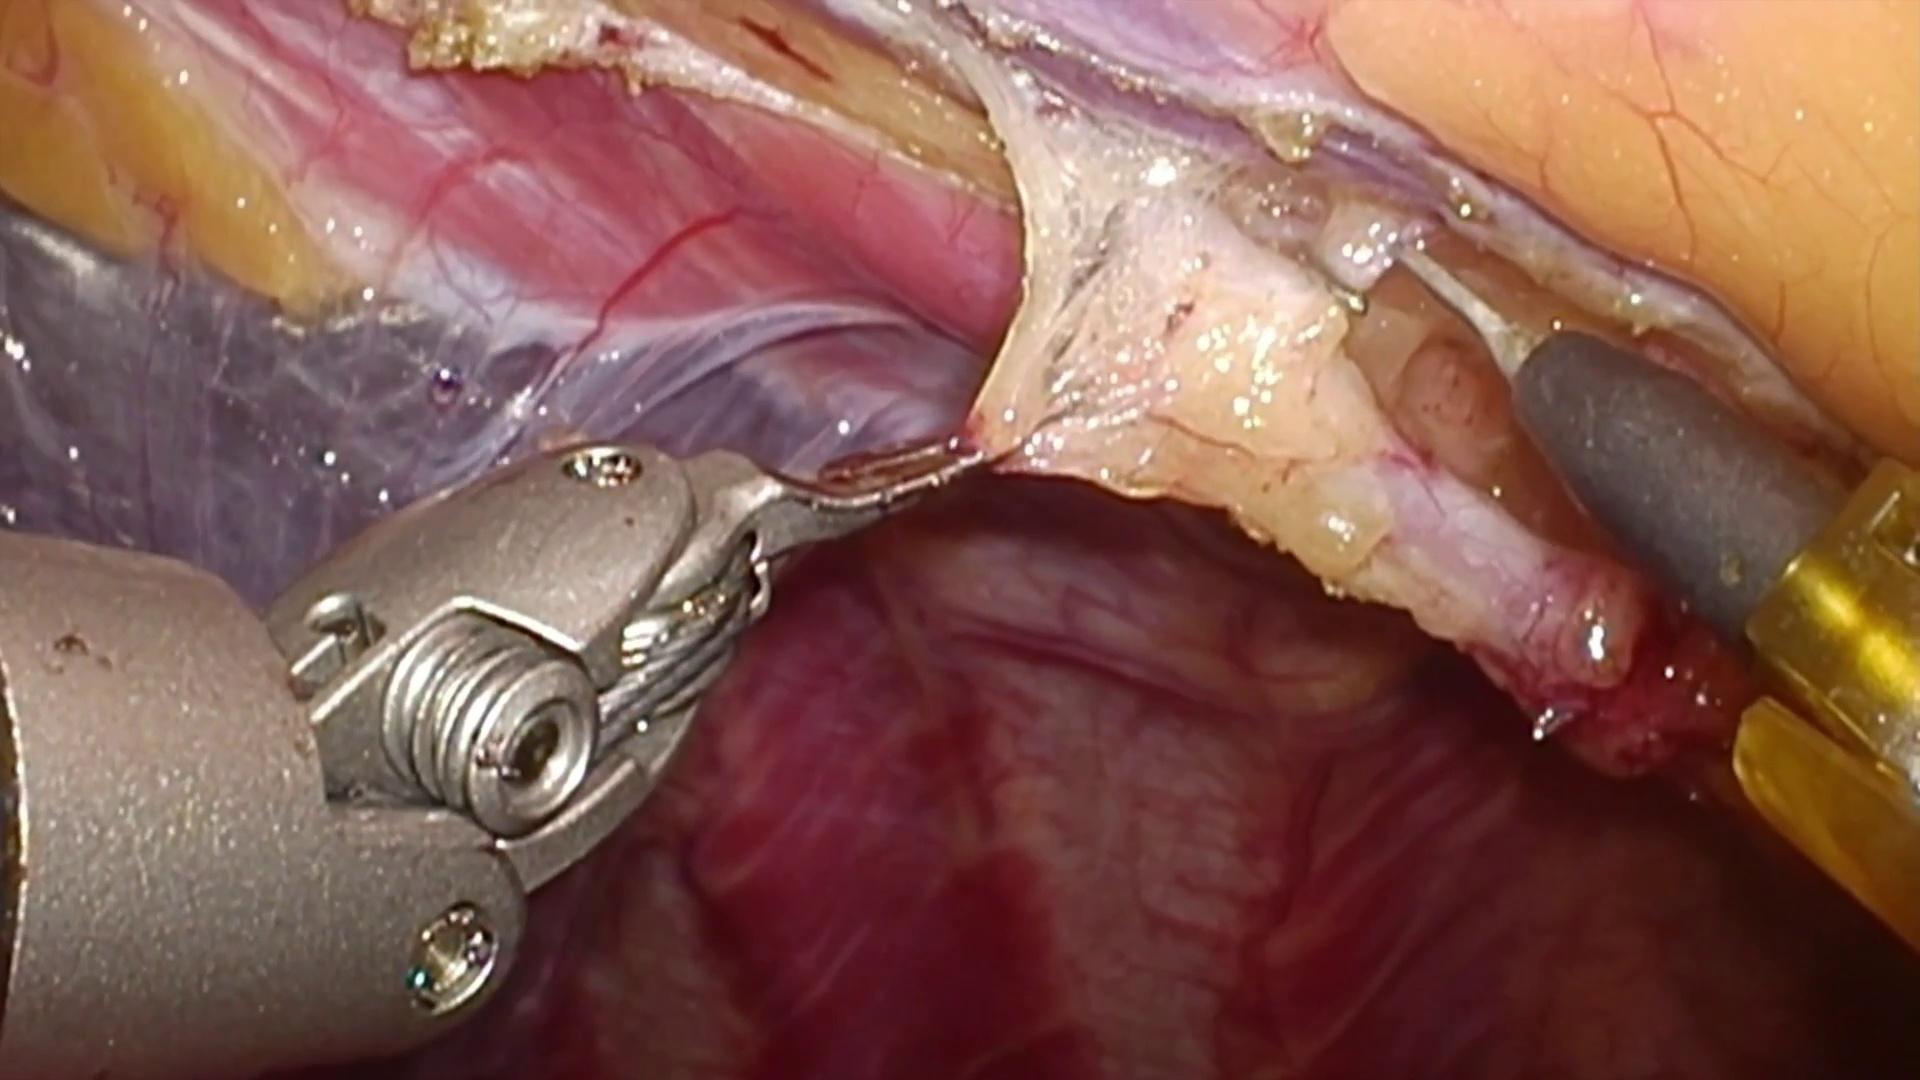Cautery_Spatula: (1393, 236, 1844, 633)
Debakey: (658, 417, 985, 562)
